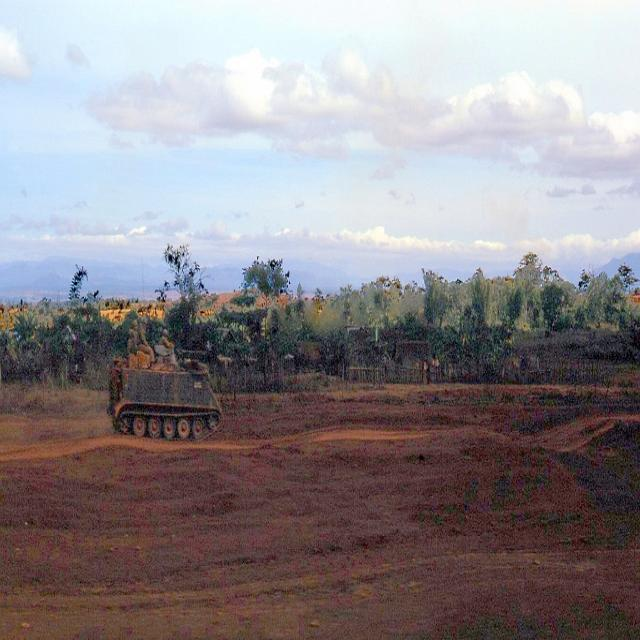tank: (106, 341, 225, 444)
